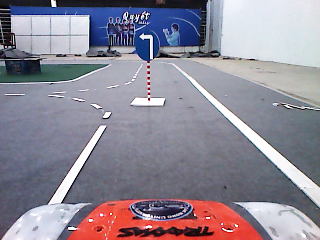turn: (134, 28, 161, 62)
